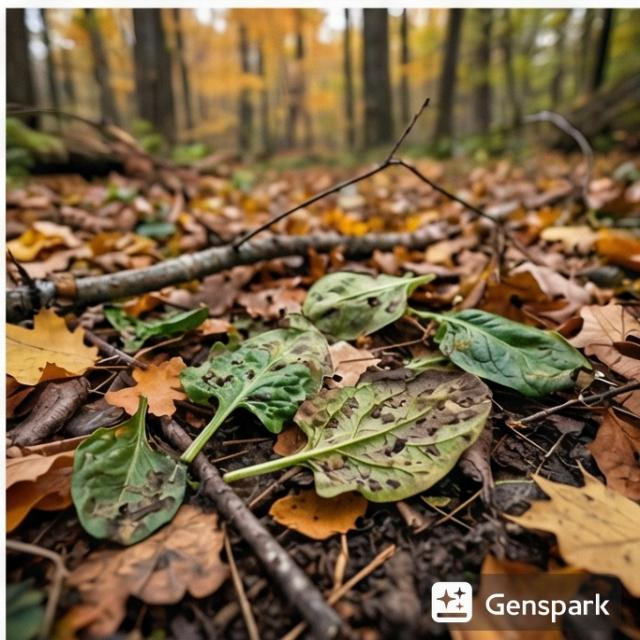rotten spinach: (26, 203, 640, 562)
